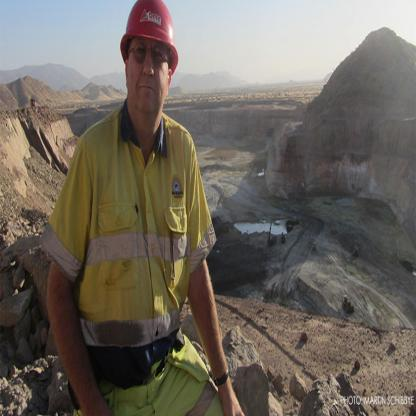person: (41, 3, 233, 415)
